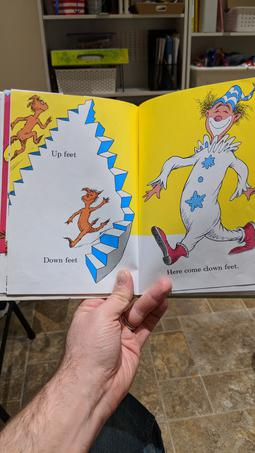text block: (160, 262, 243, 281), (38, 247, 79, 268), (46, 144, 84, 163)
